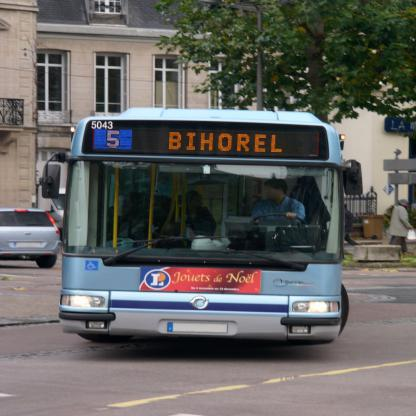Bus: (38, 107, 364, 347)
Car: (0, 207, 62, 267)
